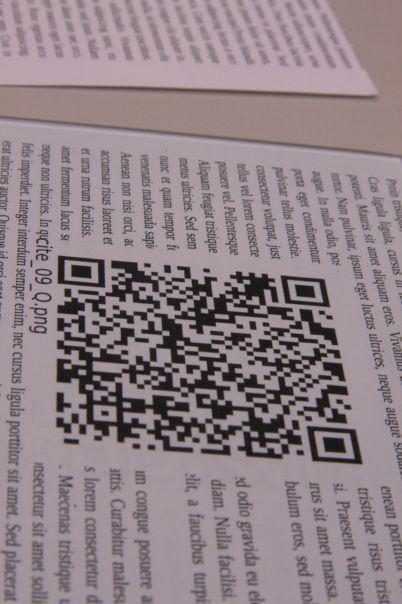Finder pattern: (302, 419, 369, 471), (51, 249, 110, 292), (274, 271, 336, 311)
